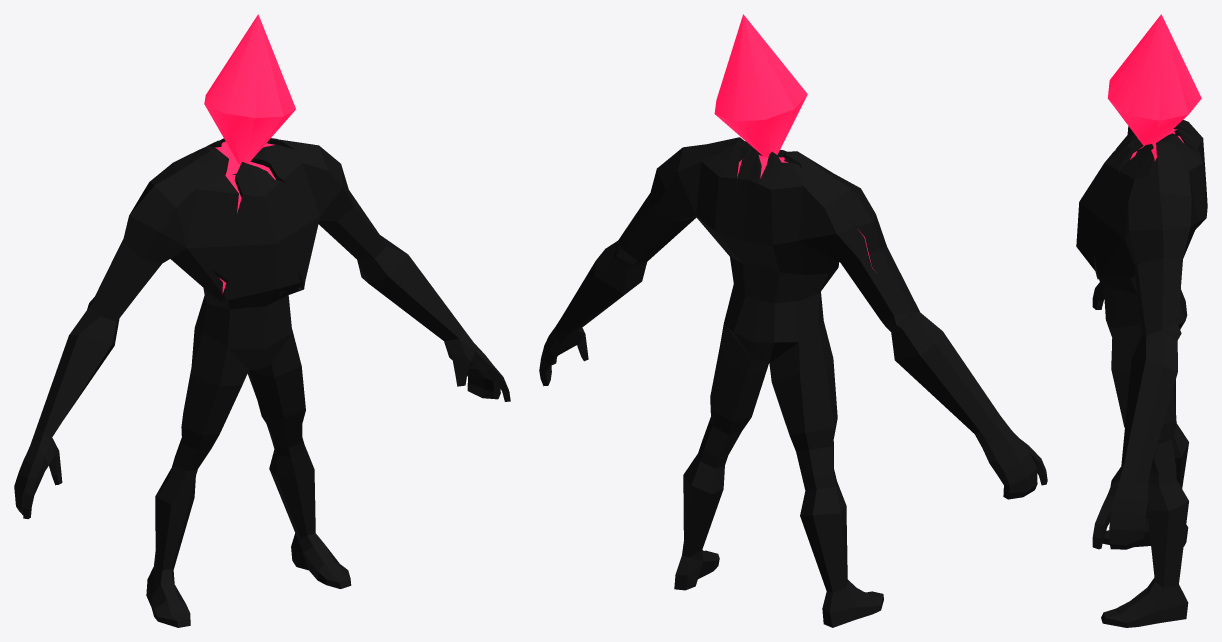
File: CrystalHead.fbx
The picture shows the model from 3 angles, left to right: view 1: azimuth 30°, elevation 25°; view 2: azimuth 150°, elevation 25°; view 3: azimuth 270°, elevation 25°; orthographic projection. The views are drawn at different scales.
Parts seen in each view (by area): view 1: Crystal Head Full; view 2: Crystal Head Full; view 3: Crystal Head Full.
Boxes of the visible parts, x1,y1,x2,y2 form: Crystal Head Full: [14, 14, 510, 627]; Crystal Head Full: [539, 14, 1047, 627]; Crystal Head Full: [1076, 14, 1207, 627].
Size of the model in its own units: 281 by 312 by 64.35.
